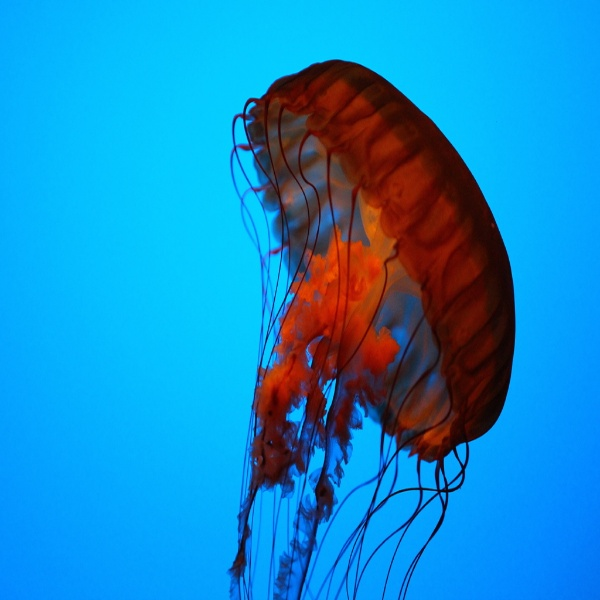Jellyfish: (224, 57, 514, 599)
